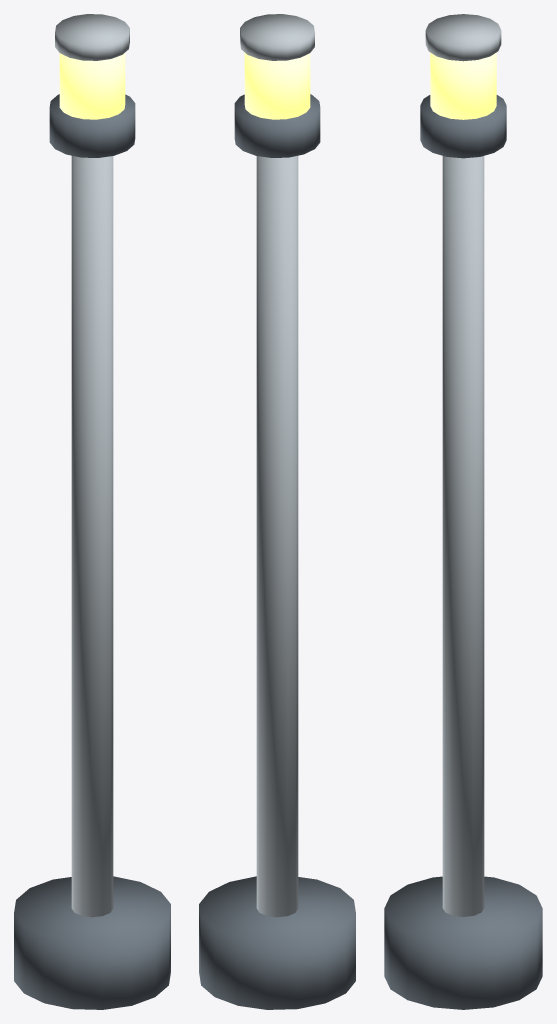
Rendered from signal_tower_standard.glb.
3 renders of one model, left to right at view 1: azimuth 30°, elevation 25°; view 2: azimuth 150°, elevation 25°; view 3: azimuth 270°, elevation 25°, orthographic.
Parts seen in each view (by area): view 1: Pole_steel, Base_dark, StatusLight_warn, Beacon_dark, Beacon_steel; view 2: Pole_steel, Base_dark, StatusLight_warn, Beacon_dark, Beacon_steel; view 3: Pole_steel, Base_dark, StatusLight_warn, Beacon_dark, Beacon_steel.
Boxes of the visible parts, x1,y1,x2,y2 form: Pole_steel: (71, 155, 113, 917); Base_dark: (14, 876, 170, 1009); StatusLight_warn: (59, 52, 125, 119); Beacon_dark: (49, 94, 135, 157); Beacon_steel: (55, 14, 129, 60); Pole_steel: (256, 155, 298, 917); Base_dark: (199, 876, 355, 1009); StatusLight_warn: (244, 52, 310, 119); Beacon_dark: (234, 94, 320, 157); Beacon_steel: (240, 14, 314, 60); Pole_steel: (442, 156, 484, 916); Base_dark: (384, 876, 542, 1009); StatusLight_warn: (430, 52, 496, 119); Beacon_dark: (420, 95, 506, 158); Beacon_steel: (425, 14, 501, 61).
Size of the model in its own units: 0.42 by 2.77 by 0.42.
